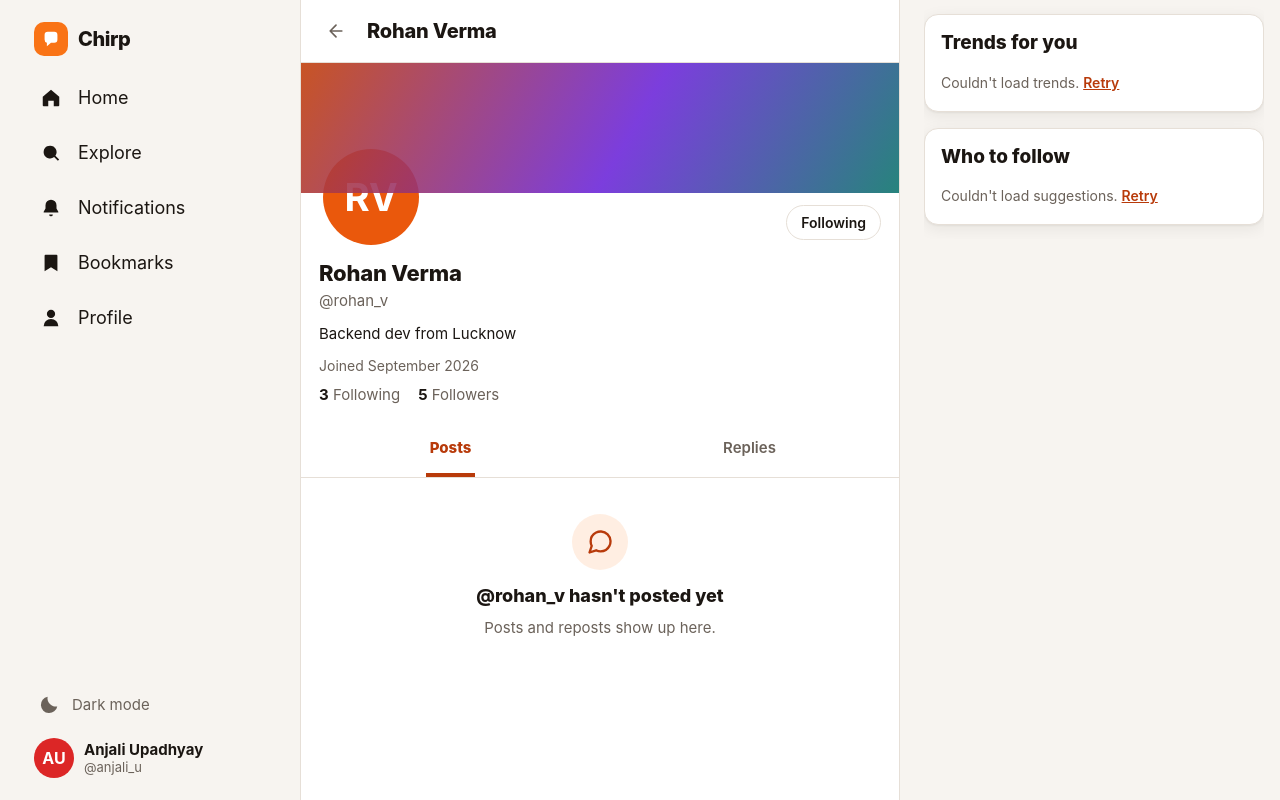
Test: follow / unfollow › unfollows with DELETE and lowers the count
The image size is (1280, 800).
Click the button with aria-label "Unfollow @rohan_v": coordinates (834, 222) [786, 205, 881, 240]
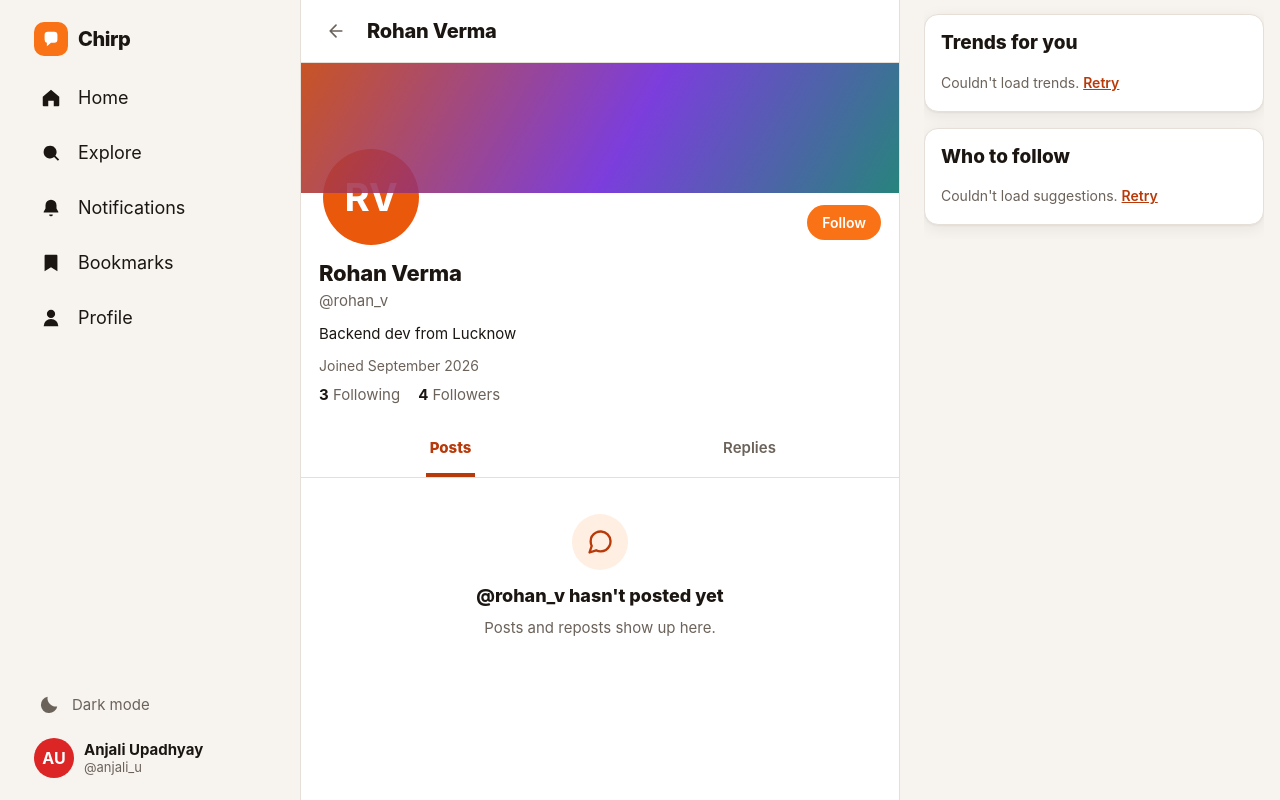
Expected: the button with aria-label "Follow @rohan_v" is shown, [807, 205, 881, 240]
Result: the link "4 Followers" is shown at [418, 384, 500, 406]
